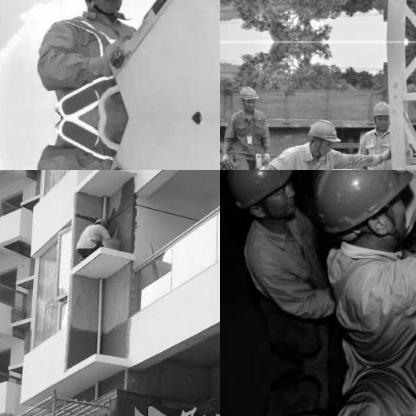Helmet: (309, 170, 415, 258), (220, 170, 298, 227), (303, 118, 337, 158), (71, 0, 135, 16), (370, 97, 390, 128), (238, 82, 256, 110), (92, 214, 108, 230)
